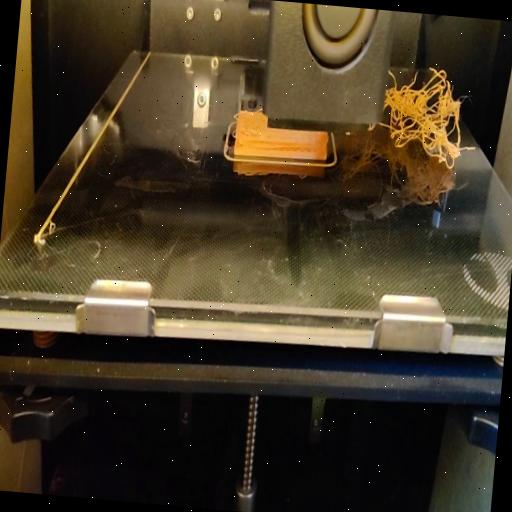spaghetti: (378, 65, 474, 171)
